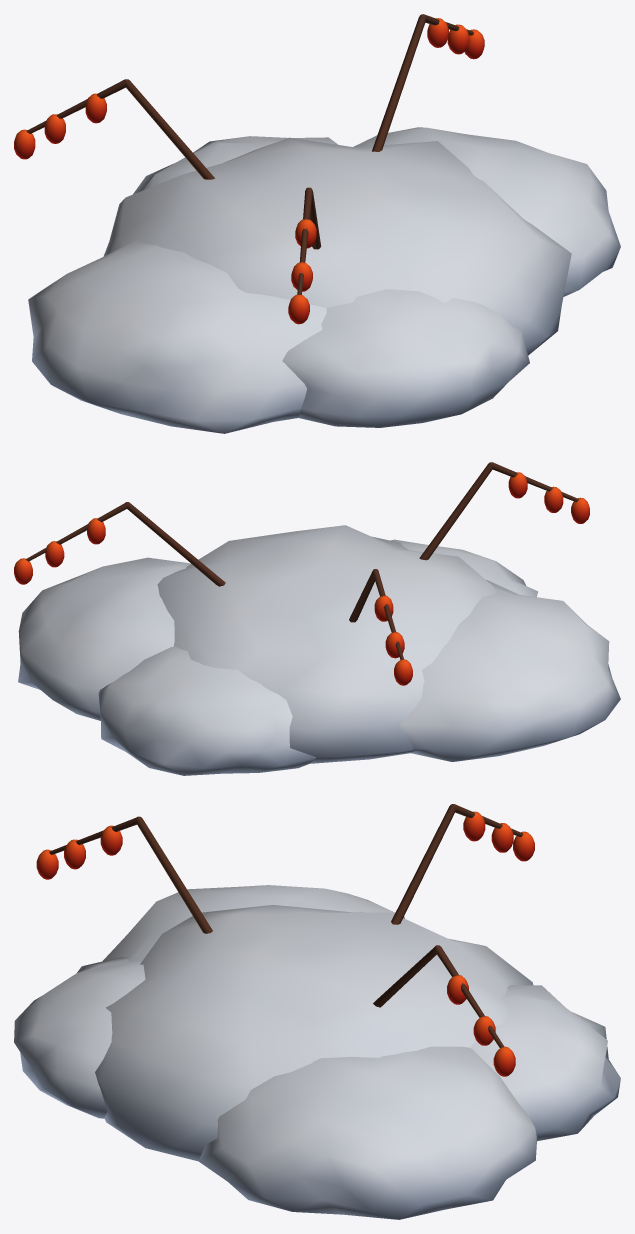
Rendered from Snowdrift.glb.
3 renders of one model, top to bottom at view 1: azimuth 30°, elevation 25°; view 2: azimuth 150°, elevation 25°; view 3: azimuth 270°, elevation 25°, orthographic. The views are drawn at different scales.
Visible parts, largest first — view 1: Drift, DriftHips, Canes; view 2: Drift, Canes, DriftHips; view 3: Drift, DriftHips, Canes.
Boxes of the visible parts, <box> form: Drift: <box>28,127,620,433</box>; DriftHips: <box>14,18,484,324</box>; Canes: <box>26,14,473,294</box>; Drift: <box>18,525,620,775</box>; Canes: <box>25,462,578,659</box>; DriftHips: <box>14,472,589,685</box>; Drift: <box>14,885,620,1219</box>; DriftHips: <box>36,811,534,1076</box>; Canes: <box>49,804,523,1047</box>.
Bounding box in the file's own units: 1.22 × 0.407 × 1.08.
